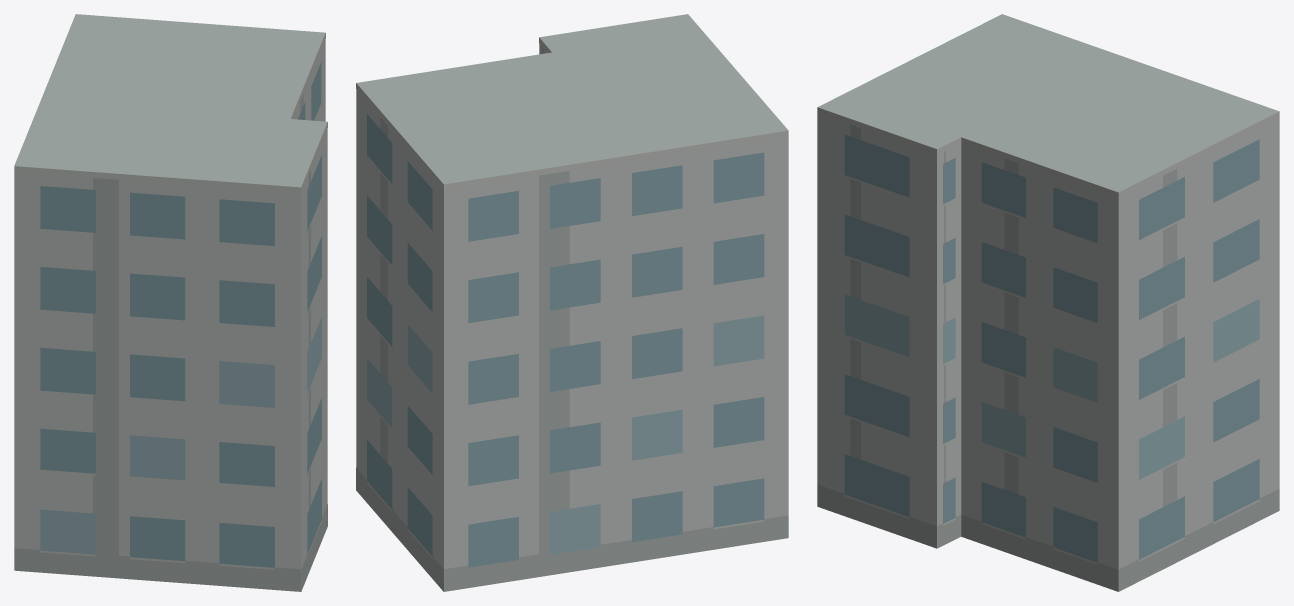
Rendered from survey-upis-32953863.glb.
3 views of the same model, side by side, from view 1: azimuth 30°, elevation 25°; view 2: azimuth 150°, elevation 25°; view 3: azimuth 270°, elevation 25° (orthographic). The views are drawn at different scales.
Visible parts, largest first — view 1: survey-upis-32953863.tmp; view 2: survey-upis-32953863.tmp; view 3: survey-upis-32953863.tmp.
Boxes of the visible parts, x1=… form: survey-upis-32953863.tmp: x1=14, y1=14, x2=327, y2=591; survey-upis-32953863.tmp: x1=356, y1=14, x2=788, y2=591; survey-upis-32953863.tmp: x1=817, y1=14, x2=1279, y2=591.
Bounding box in the file's own units: 15.87 × 16.55 × 17.36.
